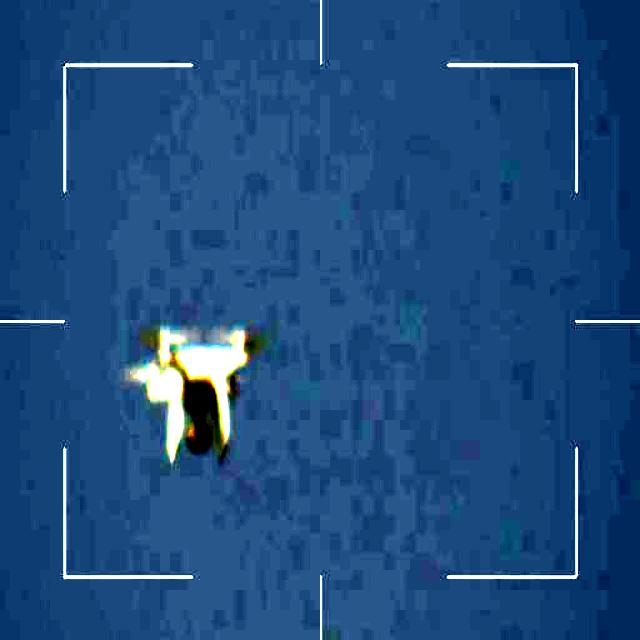bird: (122, 322, 264, 466)
